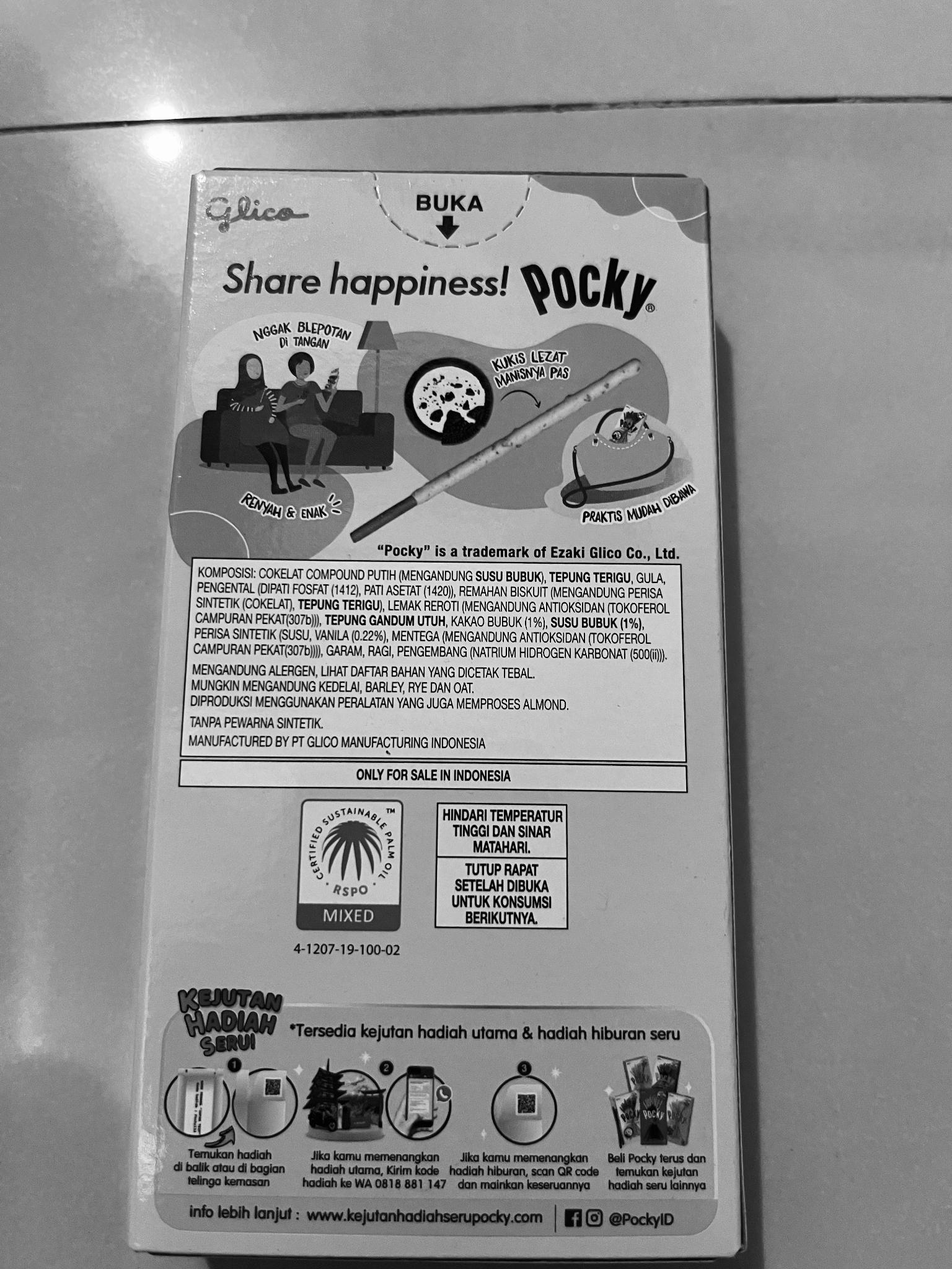Kertas: (123, 161, 746, 1253)
